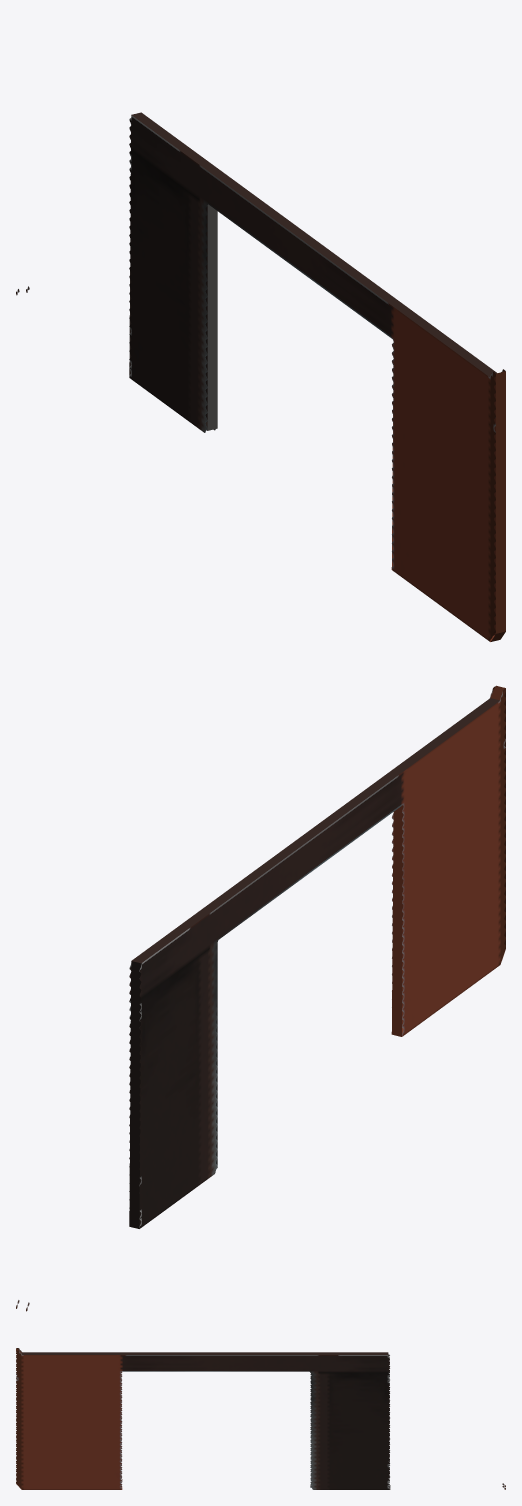
Rendered from pz_native_location_restaurant_seahorse_01_19_frame.obj.
3 views of the same model, one above another, from view 1: azimuth 30°, elevation 25°; view 2: azimuth 150°, elevation 25°; view 3: azimuth 270°, elevation 25° (orthographic). The views are drawn at different scales.
Parts seen in each view (by area): view 1: pz_native_location_restaurant_seahorse_01_19_frame; view 2: pz_native_location_restaurant_seahorse_01_19_frame; view 3: pz_native_location_restaurant_seahorse_01_19_frame.
Boxes of the visible parts, x1=… form: pz_native_location_restaurant_seahorse_01_19_frame: x1=16, y1=112, x2=505, y2=641; pz_native_location_restaurant_seahorse_01_19_frame: x1=16, y1=685, x2=505, y2=1311; pz_native_location_restaurant_seahorse_01_19_frame: x1=16, y1=1348, x2=505, y2=1489.
Size of the model in its own units: 0.04 by 1.06 by 3.32.
1 material, 1 textured.
